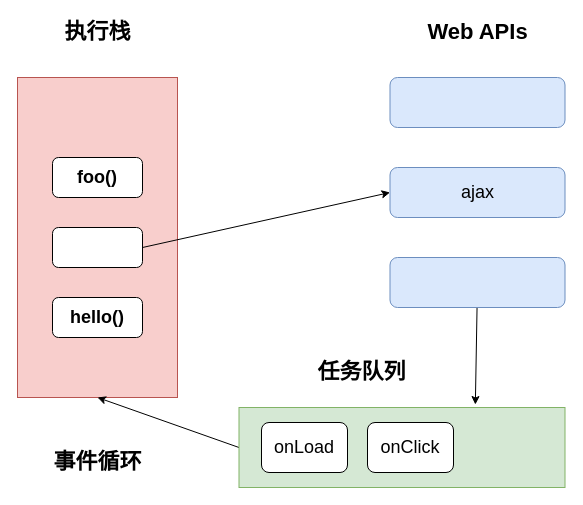
Image size: 583x505. Some labels were removed from this diagram. The centre of each missing label's shape, as x and y in pixels:
"DOM" goes at (x=477, y=102).
"query()" goes at (x=97, y=247).
"setTimeout" goes at (x=477, y=282).
